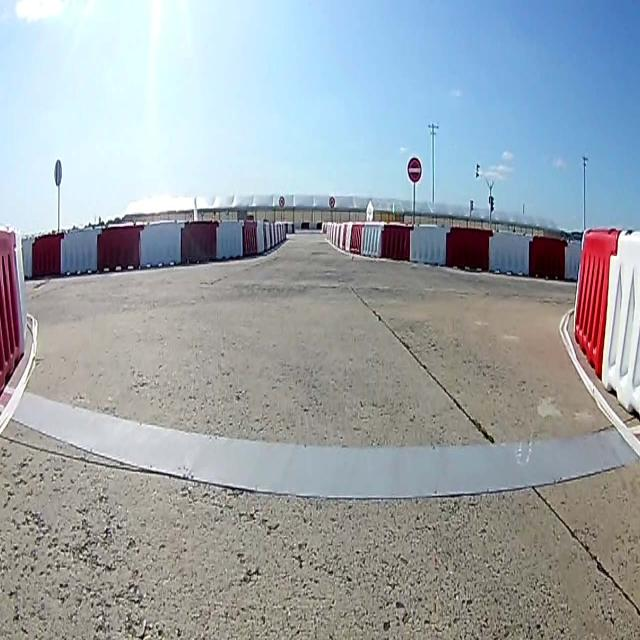girisyok: (408, 157, 422, 183)
